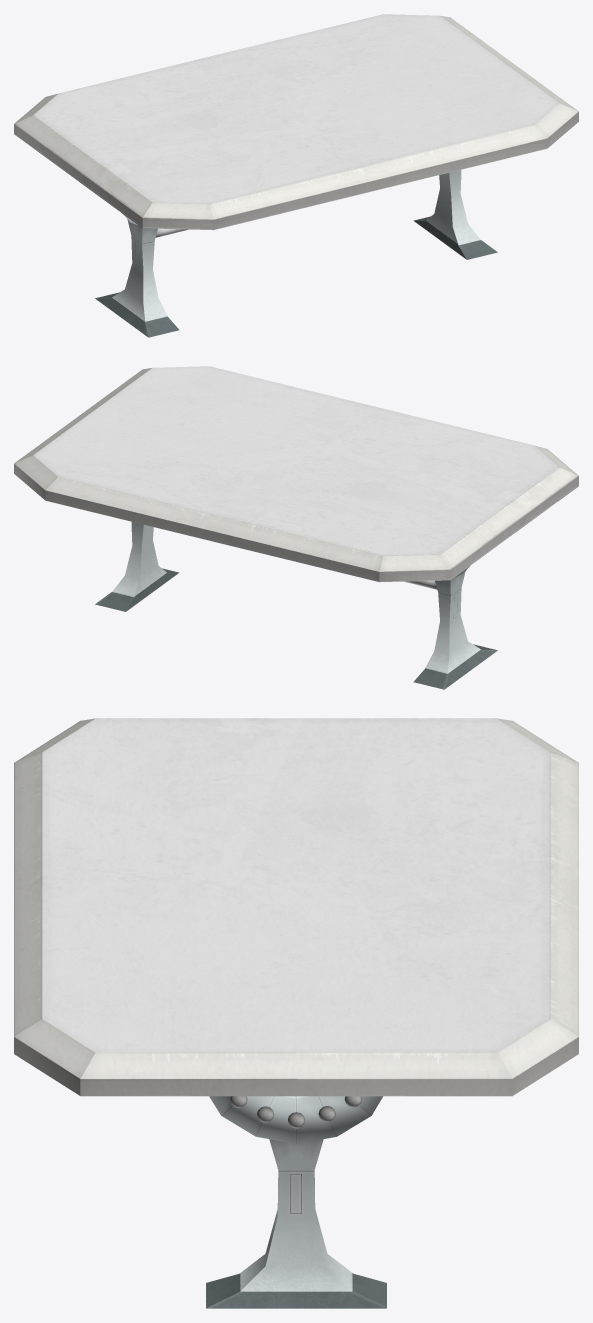
Rendered from table.FBX.
3 views of the same model, one above another, from view 1: azimuth 30°, elevation 25°; view 2: azimuth 150°, elevation 25°; view 3: azimuth 270°, elevation 25° (orthographic). The views are drawn at different scales.
Parts seen in each view (by area): view 1: table; view 2: table; view 3: table.
Boxes of the visible parts, bbox=[...] form: table: bbox=[14, 14, 578, 337]; table: bbox=[14, 366, 578, 689]; table: bbox=[14, 718, 578, 1308].
Bounding box in the file's own units: 118 × 42.97 × 78.74.
